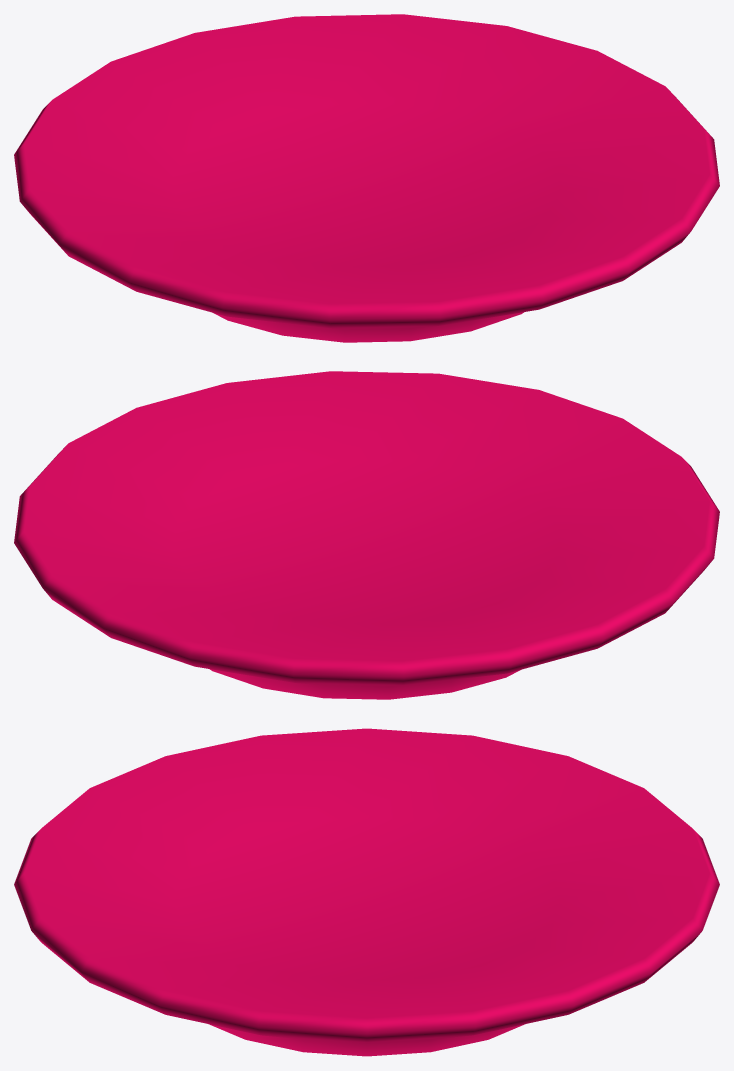
File: Plate_02_Lod0.fbx
The picture shows the model from 3 angles, top to bottom: view 1: azimuth 30°, elevation 25°; view 2: azimuth 150°, elevation 25°; view 3: azimuth 270°, elevation 25°; orthographic projection.
Parts seen in each view (by area): view 1: Plate_02_Lod0; view 2: Plate_02_Lod0; view 3: Plate_02_Lod0.
Part boxes in pixels (left/top/right/bottom): Plate_02_Lod0: left=14, top=14, right=719, bottom=342; Plate_02_Lod0: left=14, top=371, right=719, bottom=699; Plate_02_Lod0: left=14, top=728, right=719, bottom=1056.
Bounding box in the file's own units: 29.36 × 4.4 × 29.36.
